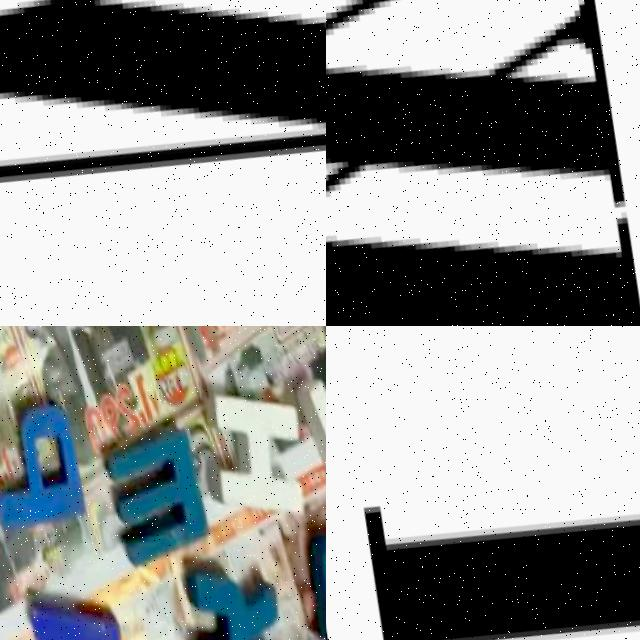H: (193, 364, 314, 522)
I: (356, 415, 640, 640)
K: (179, 533, 293, 640)
M: (0, 0, 326, 291), (106, 414, 209, 559)
N: (15, 578, 136, 640)
P: (0, 387, 91, 533)
W: (326, 0, 640, 326)
Z: (293, 326, 326, 480)
